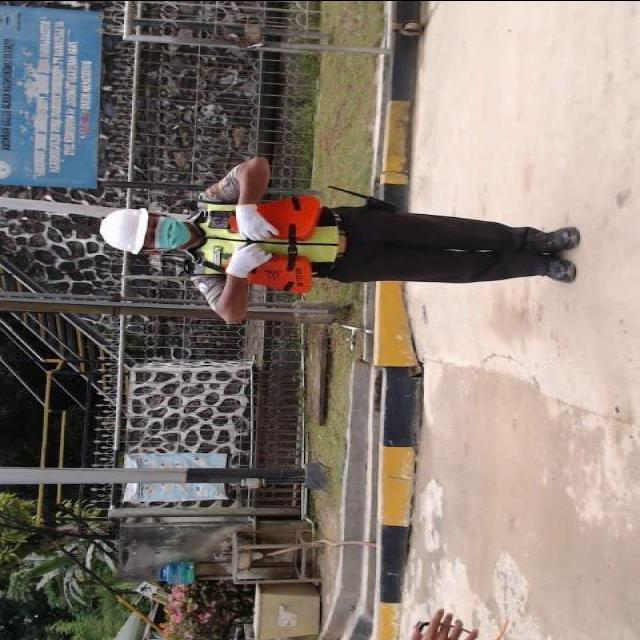helmet: (96, 196, 150, 256)
jacket: (192, 183, 328, 298)
